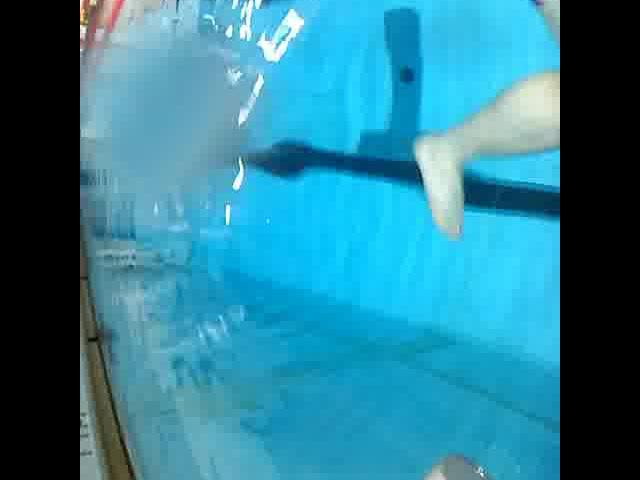Bottle: (324, 441, 514, 480)
